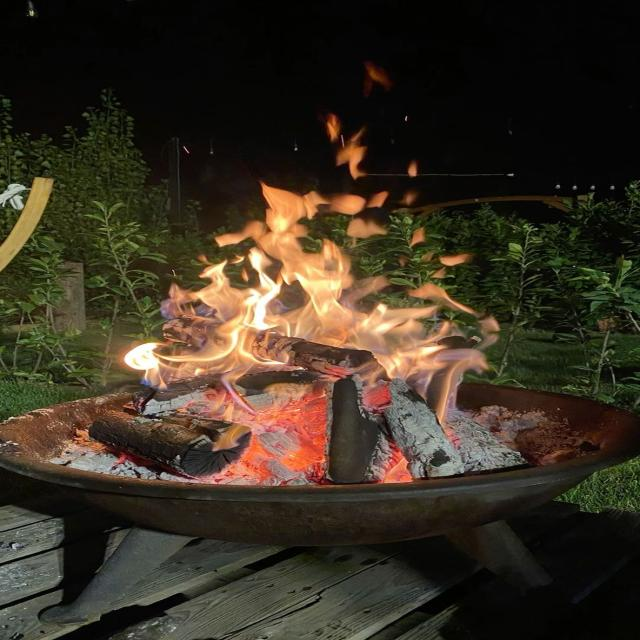fire: (125, 113, 500, 481)
